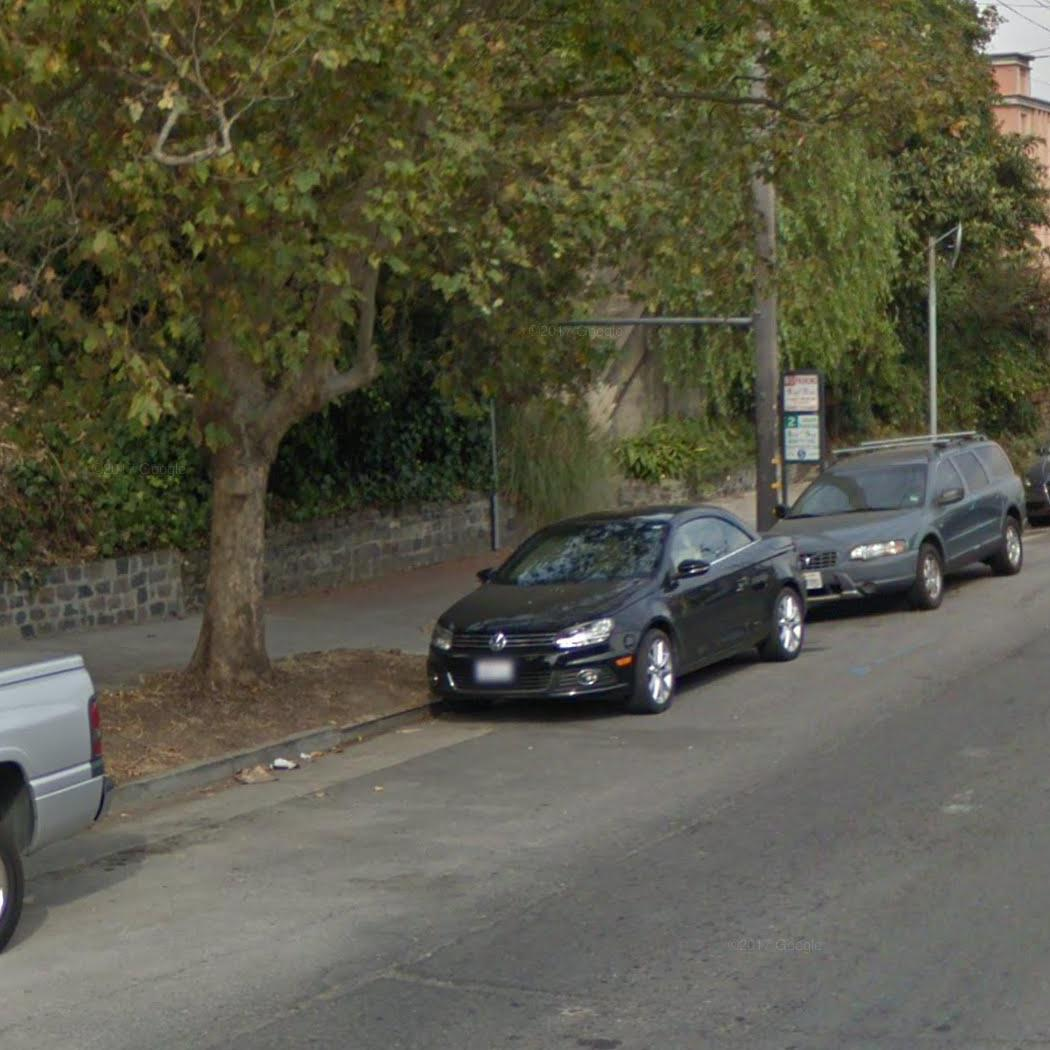2 Hour Parking: (780, 412, 825, 465)
No Parking: (780, 371, 822, 414)
